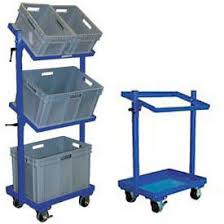Bins: (8, 135, 90, 202), (18, 64, 103, 125), (17, 2, 103, 55)
Carts: (5, 21, 96, 222), (116, 87, 209, 212)
